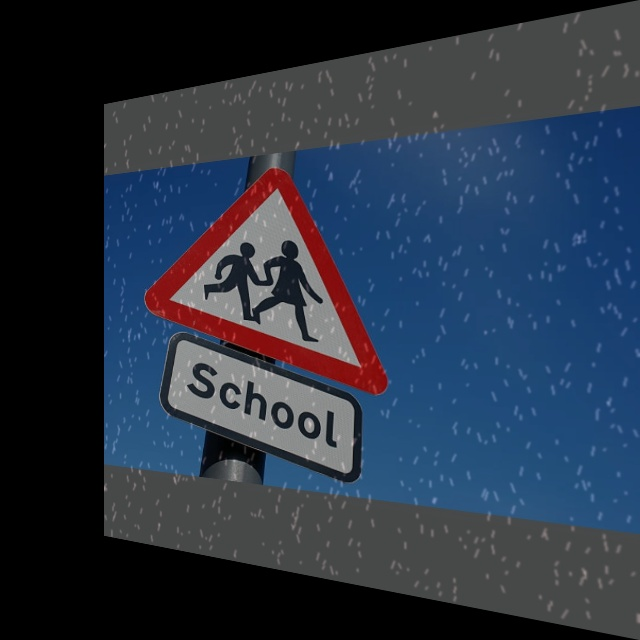School_Ahead: (148, 142, 403, 385)
